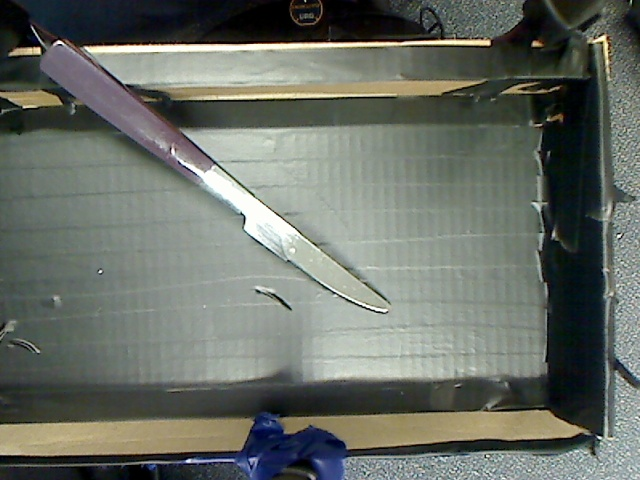knife: (25, 24, 412, 328)
